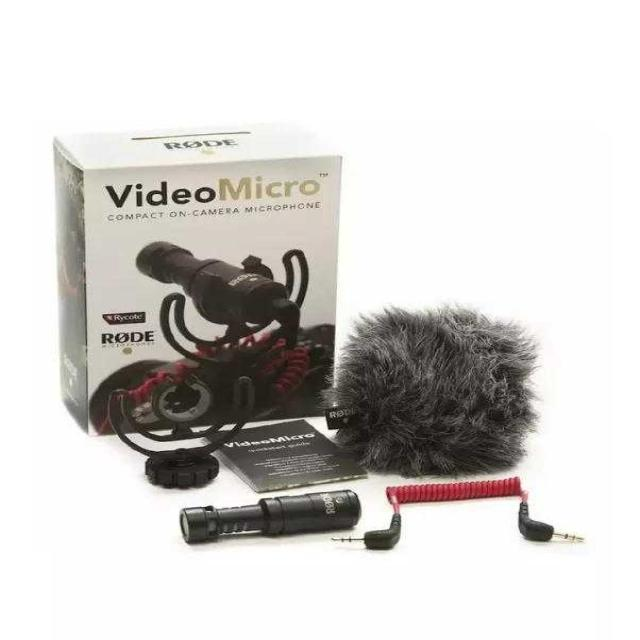microphone: (136, 242, 297, 342), (180, 489, 360, 545)
